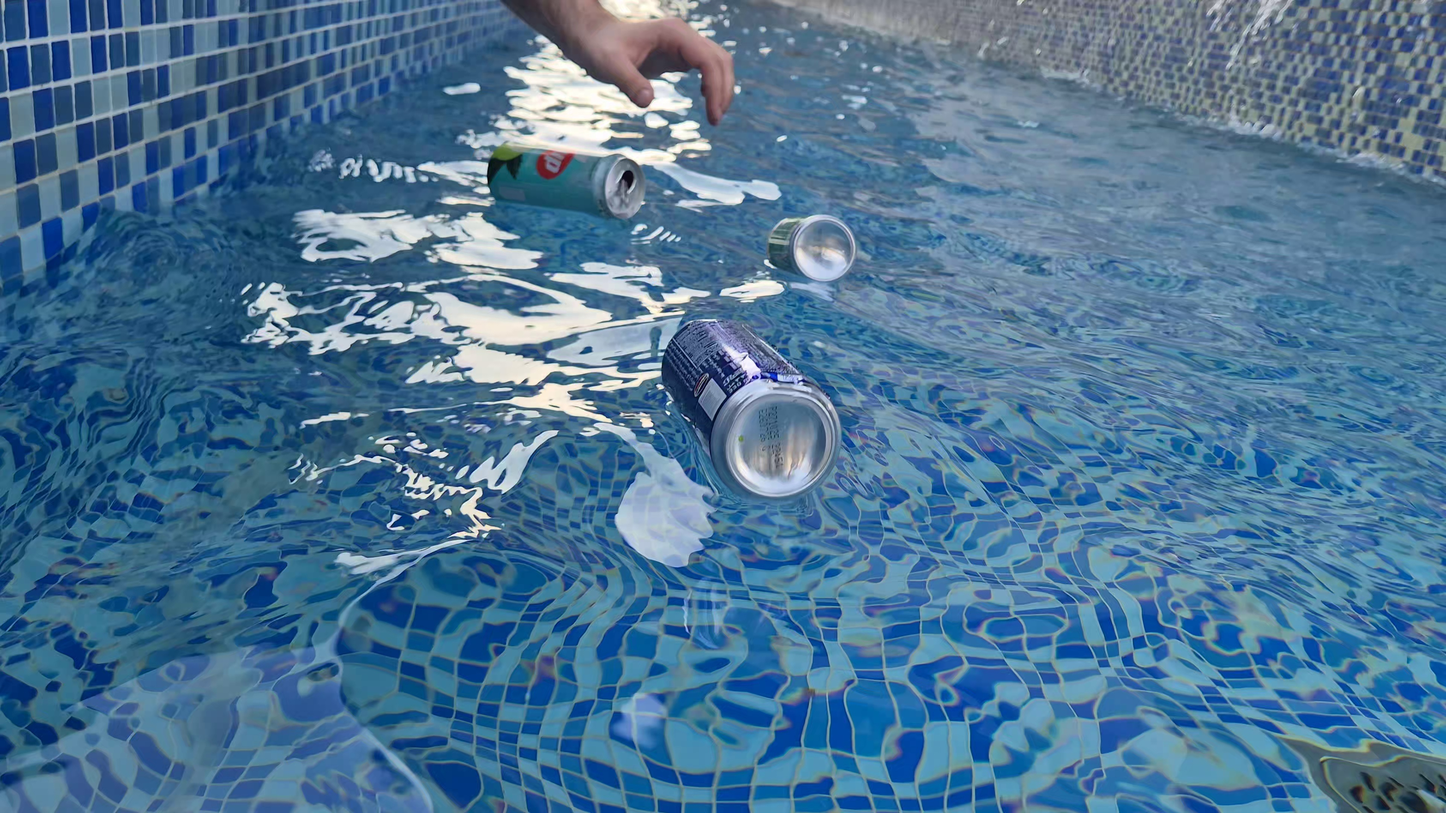debris: (644, 306, 852, 513), (483, 126, 654, 234), (758, 206, 860, 292)
